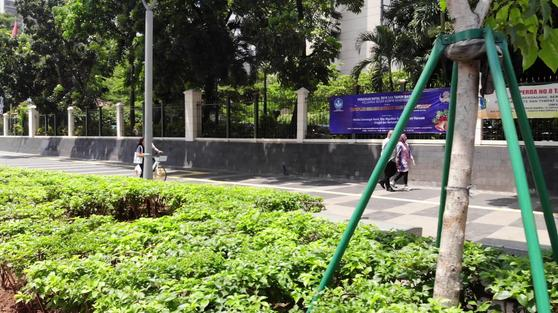bike: (129, 150, 176, 183)
